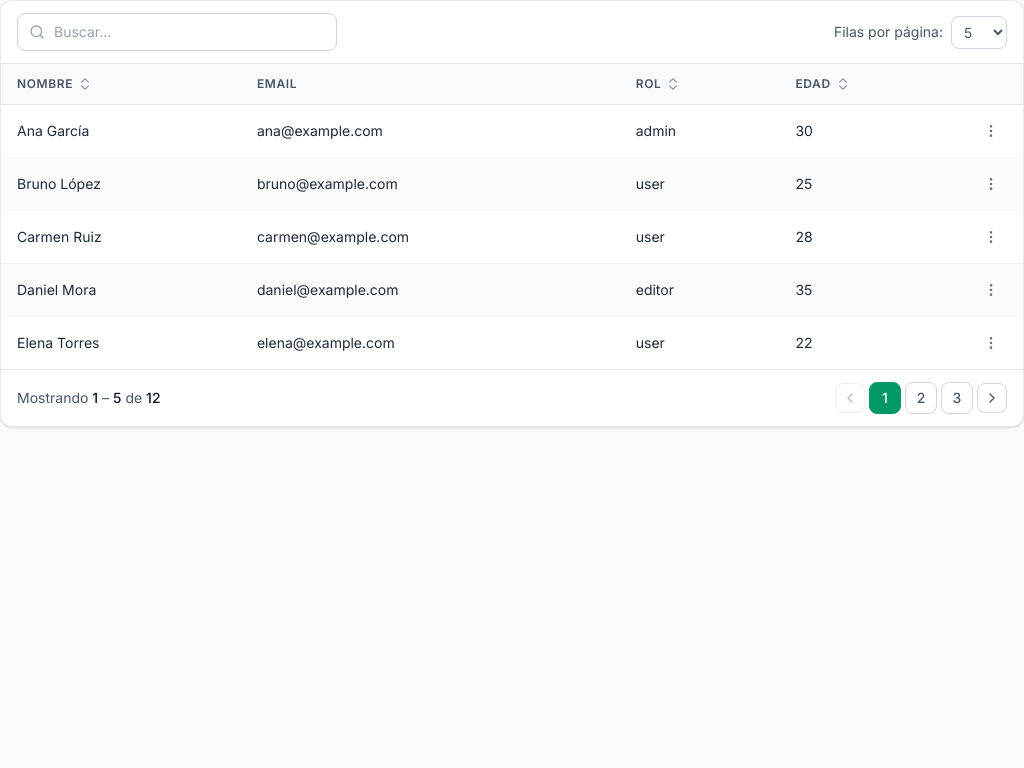
it: DataTable — Menú de acciones por fila › cierra el menú al hacer clic fuera
Click the button named "abrir menú de acciones" in the row of "Ana García" at (991, 131), box [977,117,1005,145]
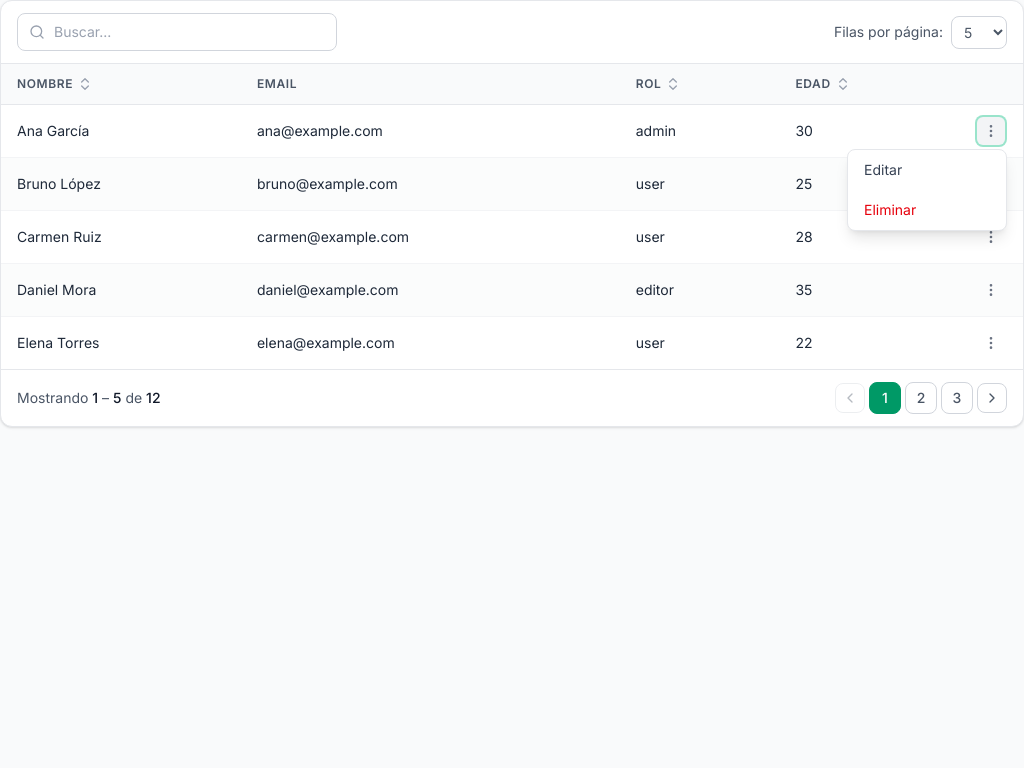
Note: Hacer clic fuera del menú.
Click the element that starts with "Filas por página:" at (512, 722), box [0,0,1023,767]
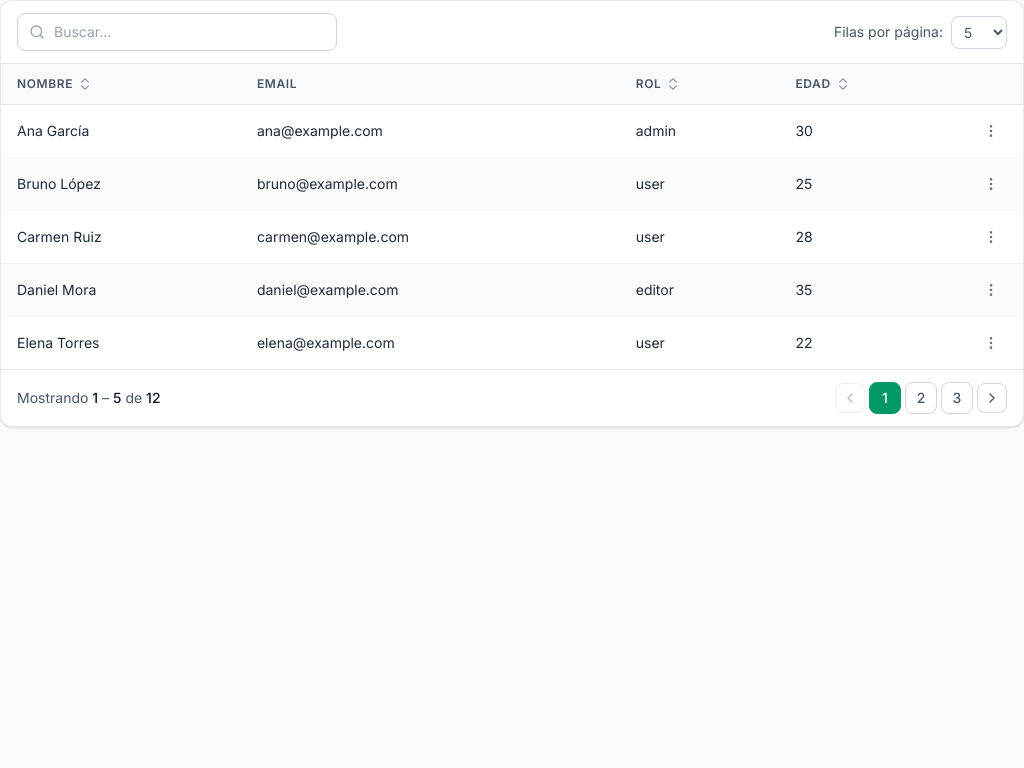
expect the menu item "Editar" is gone: met
